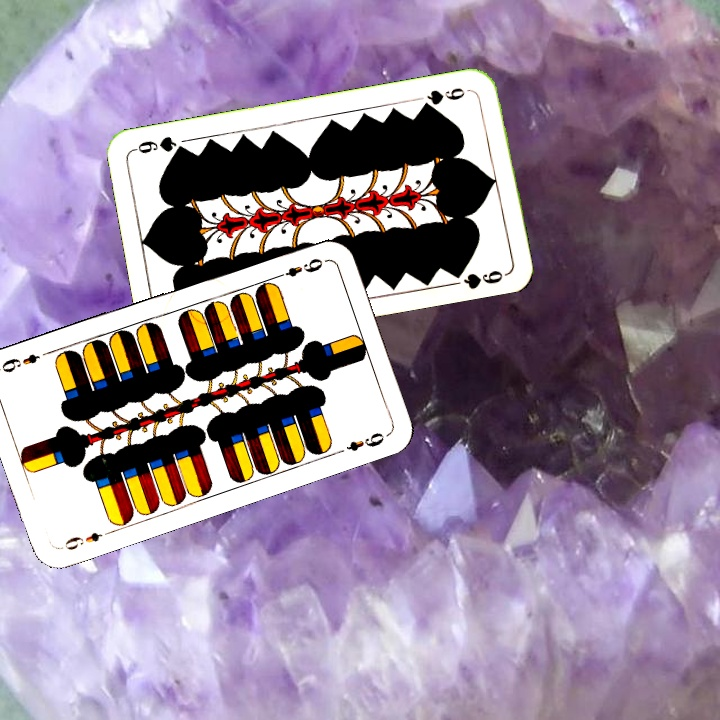E9: (270, 254, 326, 282), (57, 526, 115, 553)
G9: (418, 83, 467, 111)
